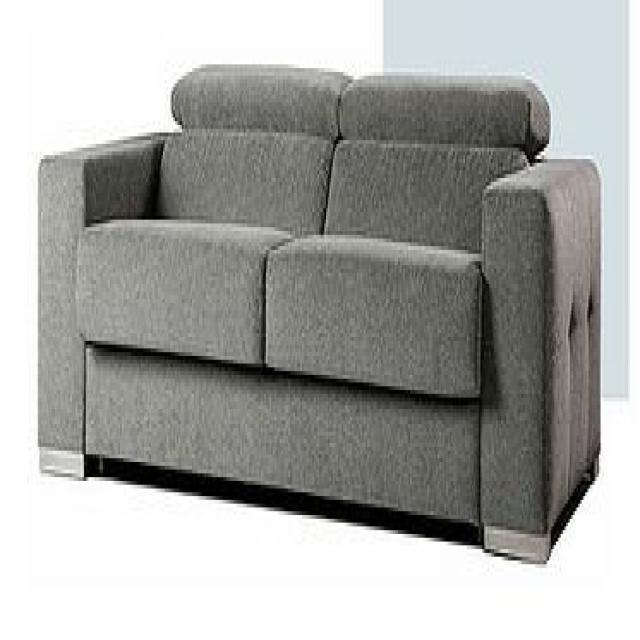sofa: (36, 60, 601, 569)
